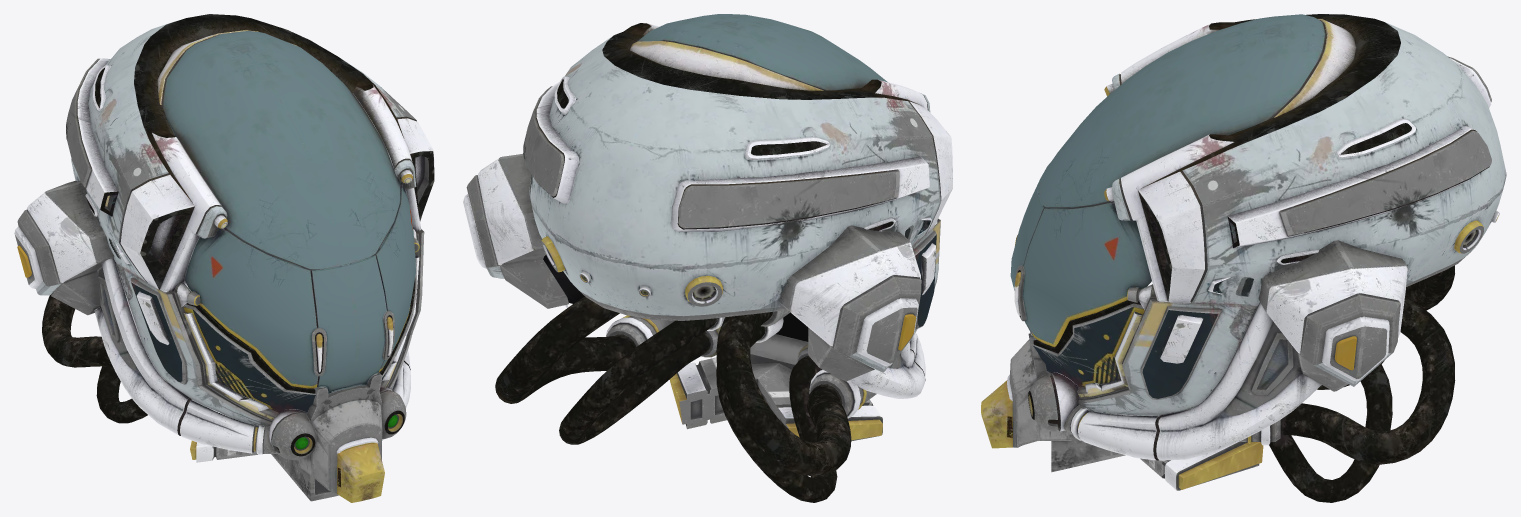
The model's file is DamagedHelmet-transformed.glb.
The picture shows the model from 3 angles, left to right: view 1: azimuth 30°, elevation 25°; view 2: azimuth 150°, elevation 25°; view 3: azimuth 270°, elevation 25°; orthographic projection. The views are drawn at different scales.
Parts seen in each view (by area): view 1: node_damagedHelmet_-6514; view 2: node_damagedHelmet_-6514; view 3: node_damagedHelmet_-6514.
Boxes of the visible parts, <box> form: node_damagedHelmet_-6514: <box>14,14,434,502</box>; node_damagedHelmet_-6514: <box>463,14,952,502</box>; node_damagedHelmet_-6514: <box>981,14,1506,502</box>.
Size of the model in its own units: 1.89 by 1.8 by 2.
Materials: 1 (1 with a texture image).
